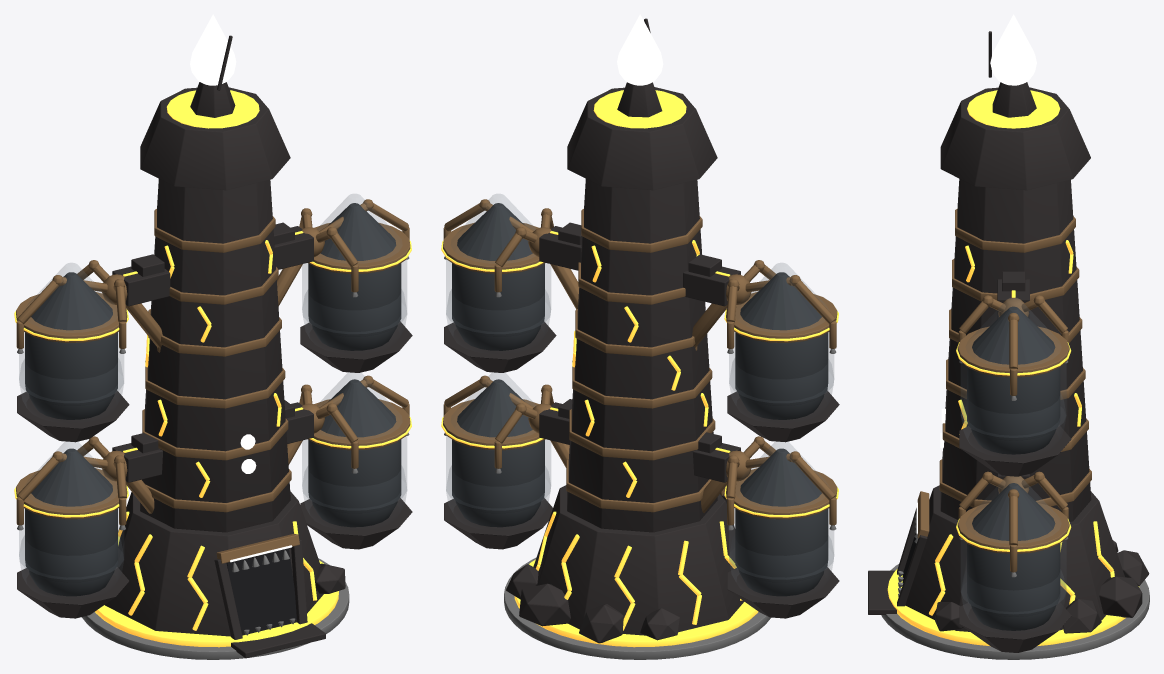
The model's file is EMBER_Vat_T3.glb.
3 renders of one model, left to right at view 1: azimuth 30°, elevation 25°; view 2: azimuth 150°, elevation 25°; view 3: azimuth 270°, elevation 25°, orthographic.
Visible parts, largest first — view 1: EMBER_Vat_T3; view 2: EMBER_Vat_T3; view 3: EMBER_Vat_T3.
Boxes of the visible parts, box(x1,y1,x2,y2) form: EMBER_Vat_T3: box(14, 14, 412, 659); EMBER_Vat_T3: box(441, 14, 839, 659); EMBER_Vat_T3: box(868, 14, 1149, 659).
Size of the model in its own units: 5.82 by 8.34 by 3.62.
